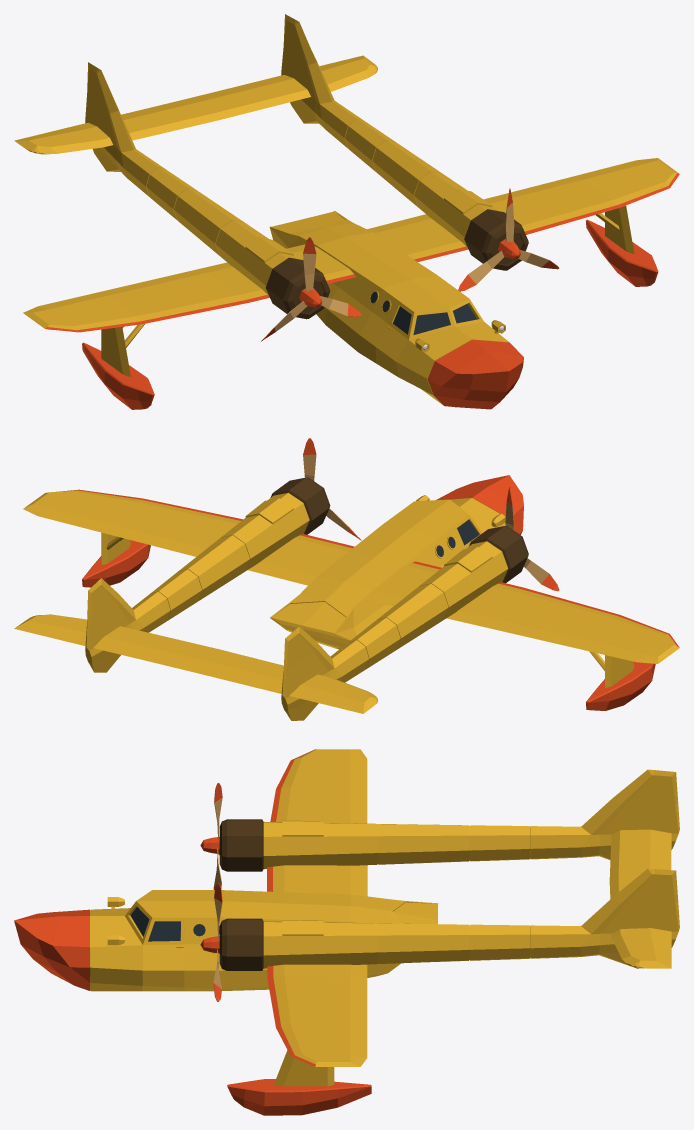
The model's file is planebroke.fbx.
The picture shows the model from 3 angles, top to bottom: view 1: azimuth 30°, elevation 25°; view 2: azimuth 150°, elevation 25°; view 3: azimuth 270°, elevation 25°; orthographic projection. The views are drawn at different scales.
Visible parts, largest first — view 1: Cylinder, Plane, Plane.001, Plane.002, Cube, Cylinder.001, Plane.003, Plane.004; view 2: Cylinder, Plane.001, Plane, Plane.002, Cube, Cylinder.001, Plane.003, Plane.004; view 3: Cylinder, Plane, Plane.001, Plane.002, Cube, Cylinder.001, Plane.004, Plane.003.
Boxes of the visible parts, left/top/right/bottom form: Cylinder: left=85, top=14, right=528, bottom=319; Plane: left=269, top=211, right=523, bottom=409; Plane.001: left=23, top=158, right=679, bottom=332; Plane.002: left=14, top=55, right=377, bottom=154; Cube: left=82, top=205, right=658, bottom=409; Cylinder.001: left=221, top=172, right=497, bottom=268; Plane.003: left=261, top=188, right=559, bottom=341; Plane.004: left=376, top=301, right=414, bottom=361; Cylinder: left=85, top=477, right=528, bottom=720; Plane.001: left=23, top=489, right=679, bottom=663; Plane: left=270, top=475, right=523, bottom=649; Plane.002: left=14, top=614, right=377, bottom=713; Cube: left=82, top=532, right=655, bottom=710; Cylinder.001: left=221, top=493, right=501, bottom=591; Plane.003: left=303, top=438, right=559, bottom=591; Plane.004: left=454, top=515, right=482, bottom=549; Cylinder: left=200, top=769, right=679, bottom=970; Plane: left=14, top=890, right=438, bottom=991; Plane.001: left=267, top=749, right=367, bottom=1066; Plane.002: left=609, top=829, right=671, bottom=968; Cube: left=227, top=1050, right=371, bottom=1115; Cylinder.001: left=263, top=820, right=377, bottom=936; Plane.004: left=143, top=917, right=184, bottom=970; Plane.003: left=213, top=783, right=222, bottom=1001.
Bounding box in the file's own units: 501 × 125 × 444.
